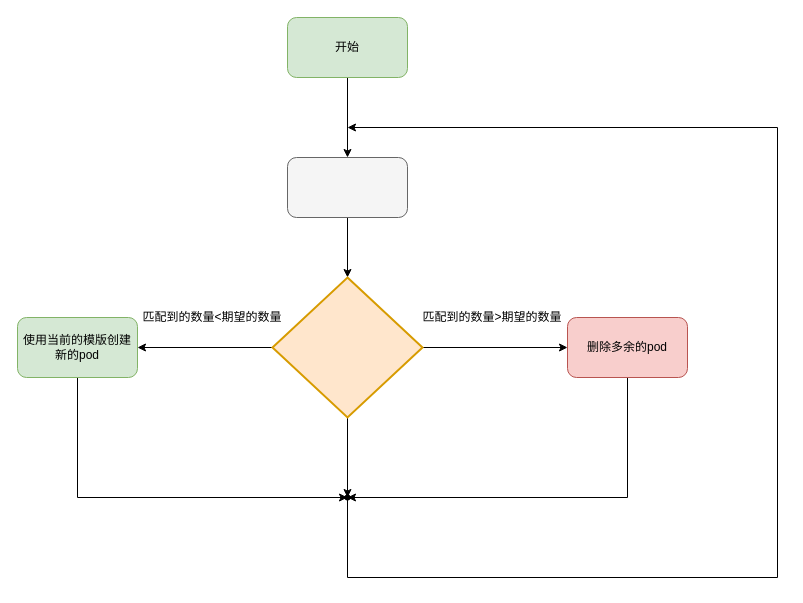
Some shapes in this 803 by 603 pixel diagram are drawn without their labels. Here are the shapes that lost their labels. From the top down, the box of each, then its label:
(286, 156, 408, 218): 找到匹配标签的pod
(271, 276, 423, 418): 比较匹配到的数量 与期望的数量
